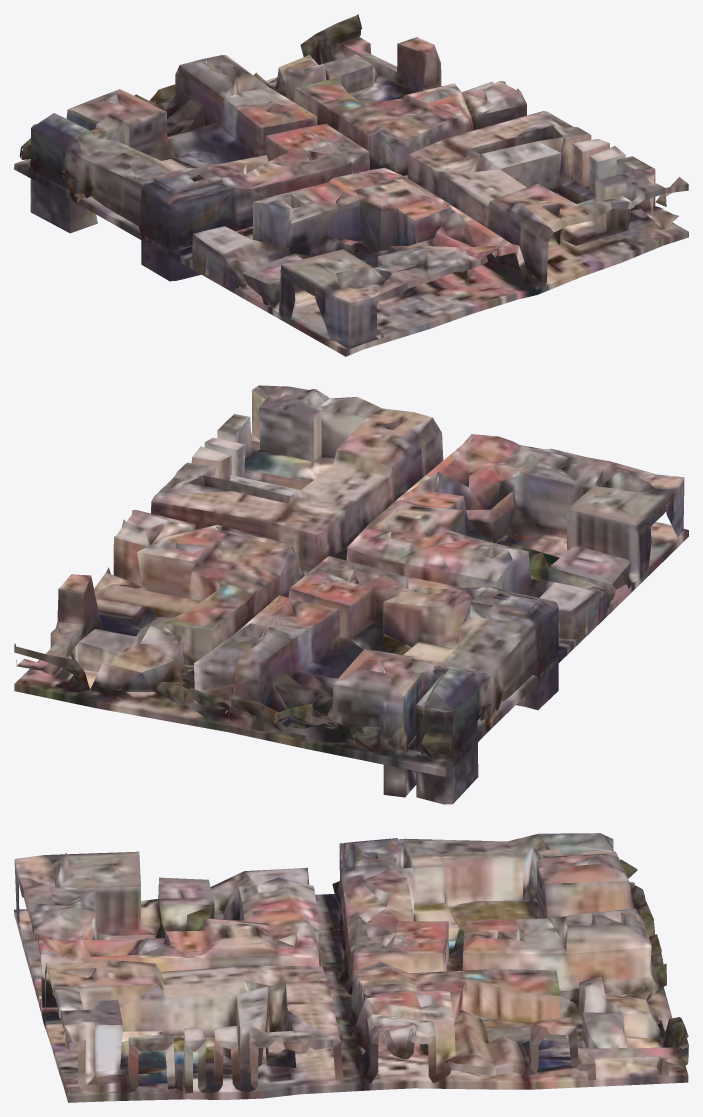
The picture shows the model from 3 angles, top to bottom: view 1: azimuth 30°, elevation 25°; view 2: azimuth 150°, elevation 25°; view 3: azimuth 270°, elevation 25°; orthographic projection. The views are drawn at different scales.
Visible parts, largest first — view 1: Mesh_0; view 2: Mesh_0; view 3: Mesh_0.
Boxes of the visible parts, left/top/right/bottom form: Mesh_0: left=14, top=14, right=688, bottom=356; Mesh_0: left=14, top=385, right=688, bottom=804; Mesh_0: left=14, top=833, right=688, bottom=1102.
Bounding box in the file's own units: 266 × 65.73 × 330.
1 material, 1 textured.
